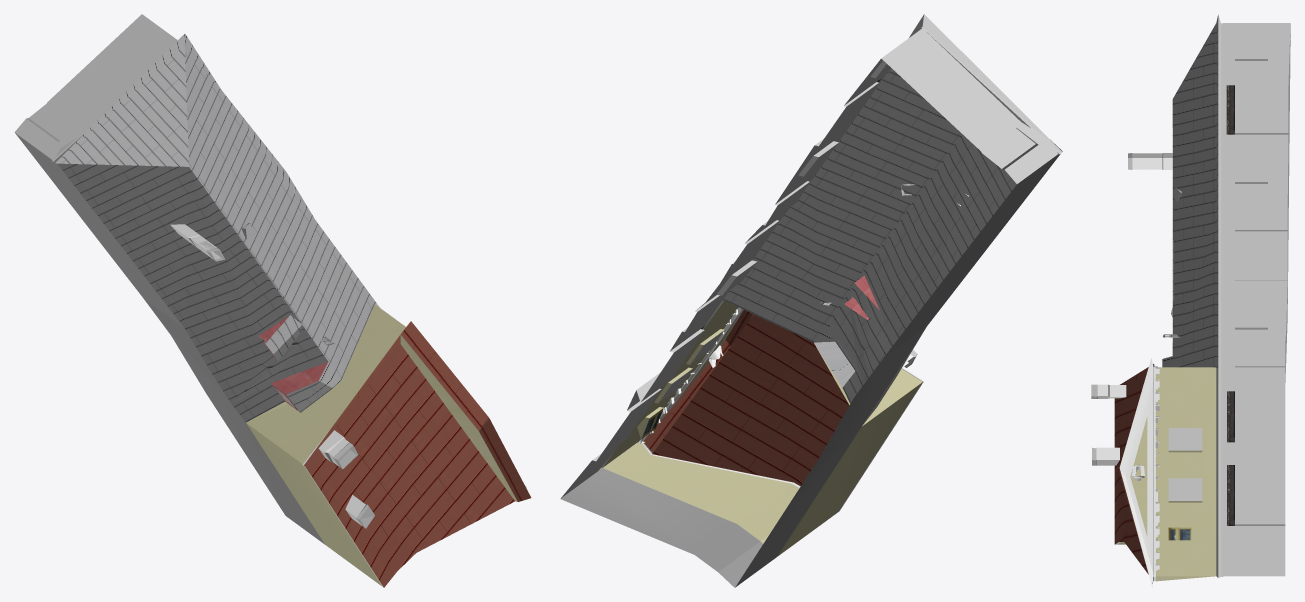
Rendered from Kiriku_6_2-origo.obj.
3 renders of one model, left to right at view 1: azimuth 30°, elevation 25°; view 2: azimuth 150°, elevation 25°; view 3: azimuth 270°, elevation 25°, orthographic. The views are drawn at different scales.
Visible parts, largest first — view 1: Kiriku_6_2; view 2: Kiriku_6_2; view 3: Kiriku_6_2.
Boxes of the visible parts, bbox=[...] form: Kiriku_6_2: bbox=[14, 14, 531, 587]; Kiriku_6_2: bbox=[560, 14, 1062, 587]; Kiriku_6_2: bbox=[1091, 14, 1290, 586].
Size of the model in its own units: 21.06 by 25 by 9.56.
